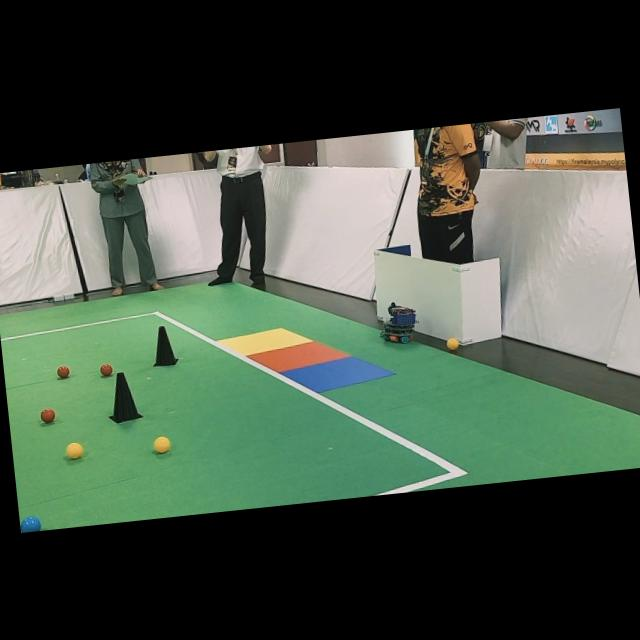ball: (20, 516, 41, 532), (66, 441, 83, 458), (153, 436, 170, 452), (40, 408, 55, 423), (99, 362, 112, 376), (56, 365, 69, 377), (446, 337, 458, 350)
goal: (282, 356, 393, 391), (248, 341, 349, 371), (218, 328, 312, 355)
